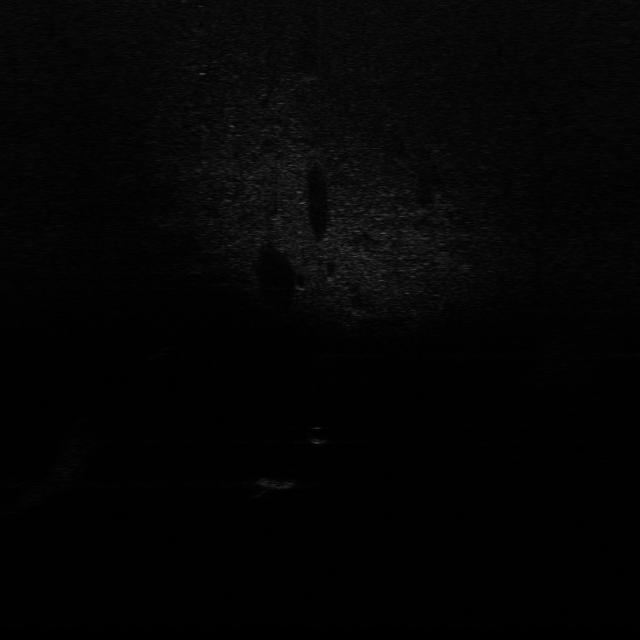ball: (303, 425, 333, 446)
square cage: (254, 474, 316, 494)
